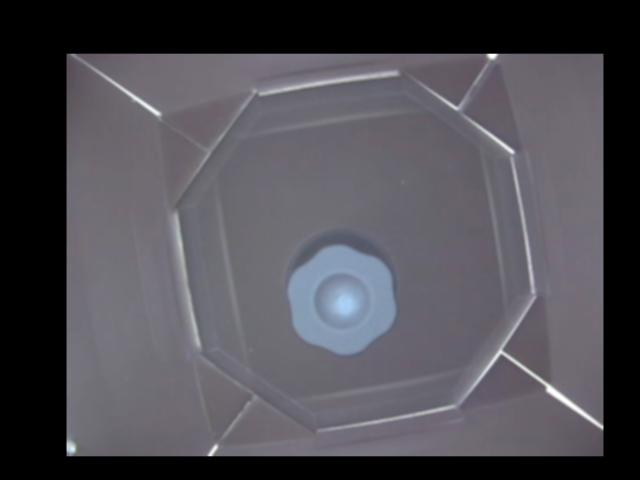Cup: (288, 230, 398, 359)
